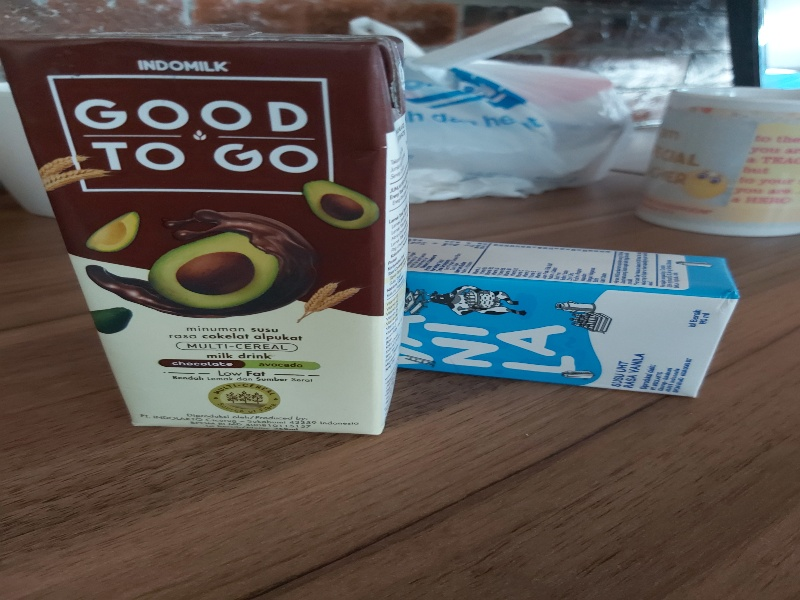cokelat: (3, 30, 406, 434)
vanilla: (399, 235, 741, 403)
